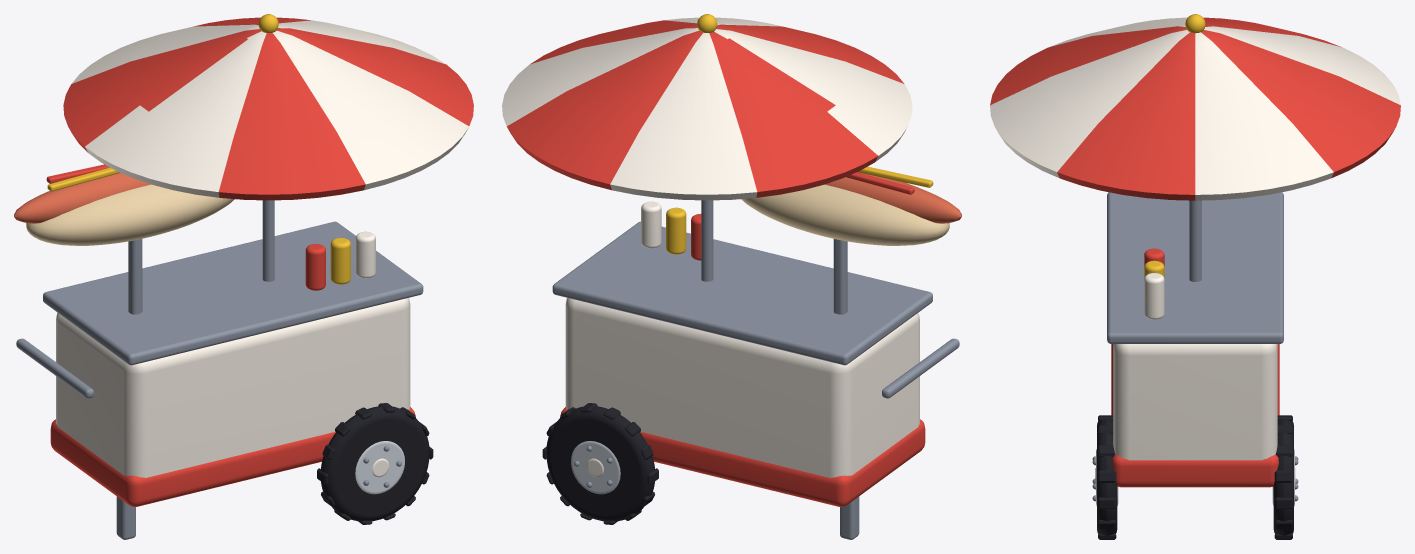
Rendered from hotdog_cart.glb.
The picture shows the model from 3 angles, left to right: view 1: azimuth 30°, elevation 25°; view 2: azimuth 150°, elevation 25°; view 3: azimuth 270°, elevation 25°; orthographic projection.
Parts seen in each view (by area): view 1: hotdog_cart; view 2: hotdog_cart; view 3: hotdog_cart.
Boxes of the visible parts, <box> form: hotdog_cart: <box>14,14,473,539</box>; hotdog_cart: <box>502,14,961,539</box>; hotdog_cart: <box>990,14,1400,539</box>.
Bounding box in the file's own units: 2.43 × 2.62 × 2.
1 material, 1 textured.
